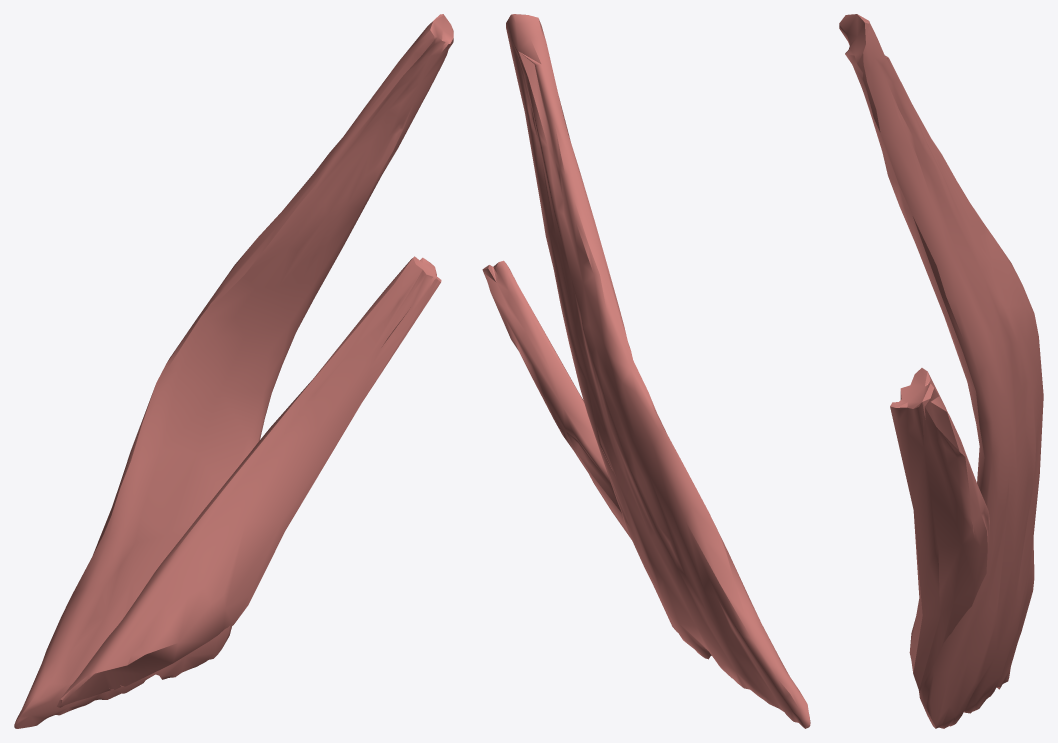
The model's file is fma82378_mm4006m.glb.
The picture shows the model from 3 angles, left to right: view 1: azimuth 30°, elevation 25°; view 2: azimuth 150°, elevation 25°; view 3: azimuth 270°, elevation 25°; orthographic projection. The views are drawn at different scales.
Visible parts, largest first — view 1: FMA82378_MM4006M; view 2: FMA82378_MM4006M; view 3: FMA82378_MM4006M.
Boxes of the visible parts, <box> form: FMA82378_MM4006M: <box>14,14,453,728</box>; FMA82378_MM4006M: <box>482,14,810,728</box>; FMA82378_MM4006M: <box>839,14,1043,728</box>.
Bounding box in the file's own units: 0.0428 × 0.0692 × 0.0141.
